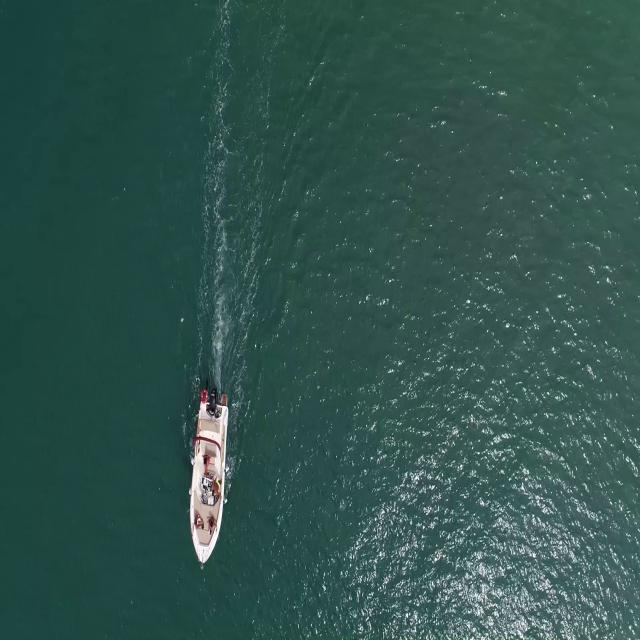boat: (186, 403, 230, 570)
life_buoy: (199, 390, 208, 403)
person: (191, 513, 204, 537), (211, 480, 224, 502), (200, 452, 210, 476), (207, 516, 217, 535)
